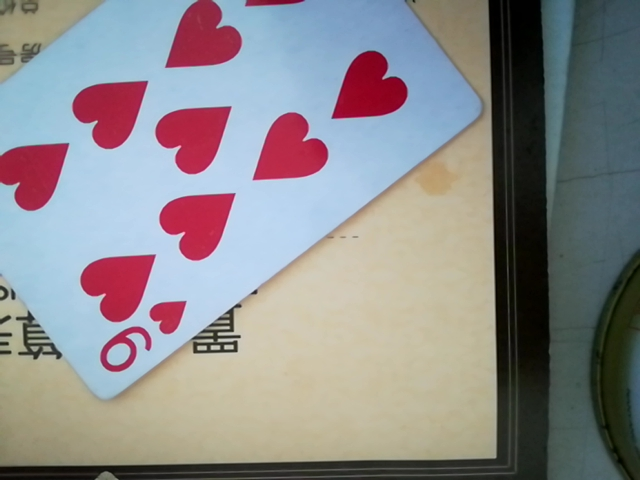hx 9: (0, 6, 483, 403)
